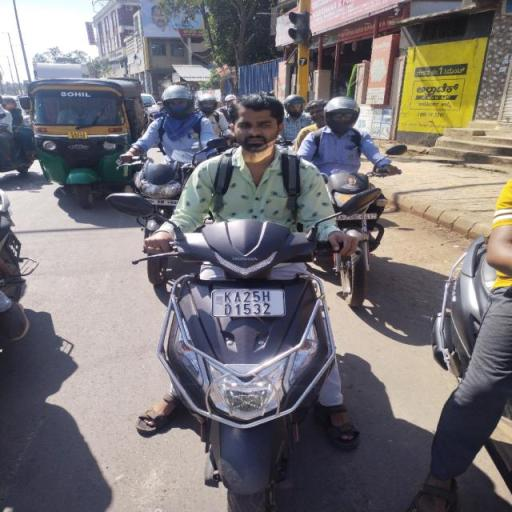bike: (124, 87, 382, 509)
numberplate: (209, 288, 288, 317)
withouthelmet: (231, 96, 282, 147)
